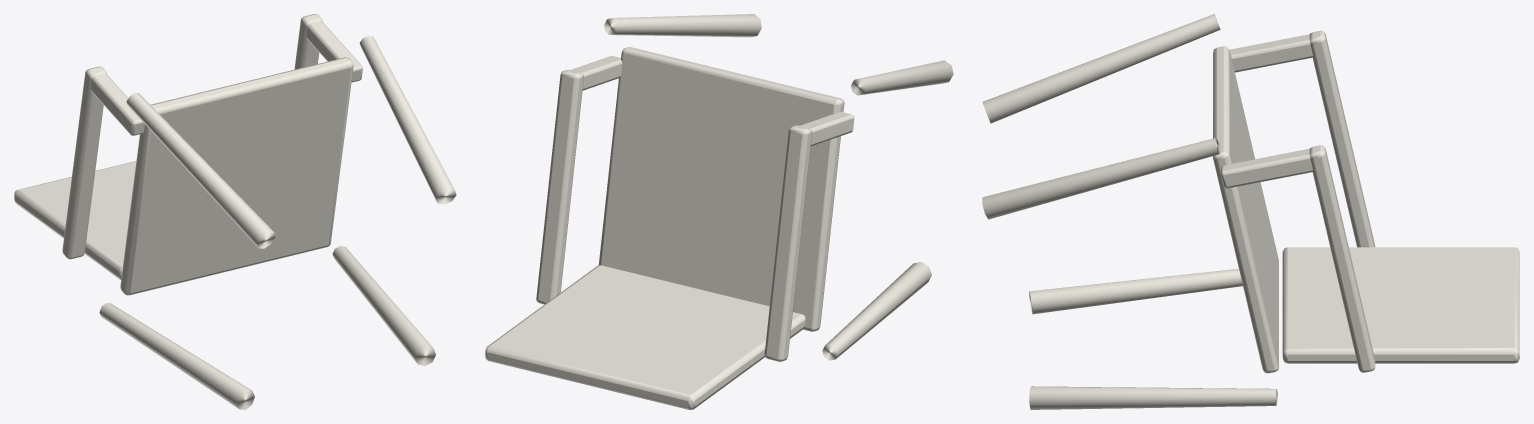
File: wild_chair.fbx
3 views of the same model, side by side, from view 1: azimuth 30°, elevation 25°; view 2: azimuth 150°, elevation 25°; view 3: azimuth 270°, elevation 25° (orthographic). The views are drawn at different scales.
Parts seen in each view (by area): view 1: wild_chair; view 2: wild_chair; view 3: wild_chair.
Boxes of the visible parts, x1=… form: wild_chair: x1=14, y1=14, x2=456, y2=409; wild_chair: x1=485, y1=14, x2=953, y2=409; wild_chair: x1=982, y1=14, x2=1519, y2=409.
Size of the model in its own units: 0.553 by 0.9525 by 0.5583.
